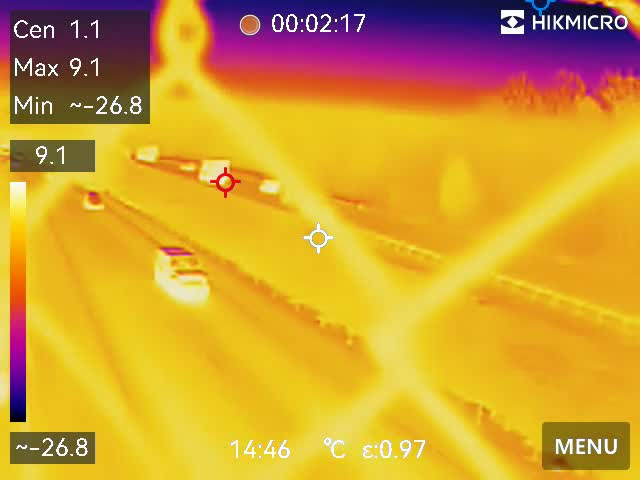largeCar: (149, 232, 214, 292)
